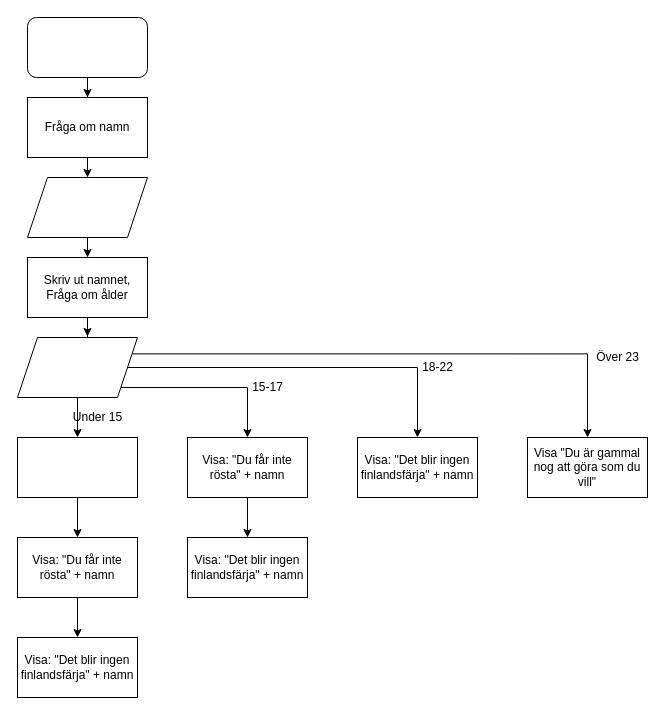
The diagram is 665 pixels wide and 715 high, and some of its shapes have lost their labels. Here are the shapes that lost their labels. From the top down, the box of each, then its label:
(26, 16, 148, 78): Start
(26, 176, 148, 238): Spara namn
(16, 336, 138, 398): Spara ålder
(16, 436, 138, 498): Visa: "Du måste ha hjälm när du cycklar" + namn
